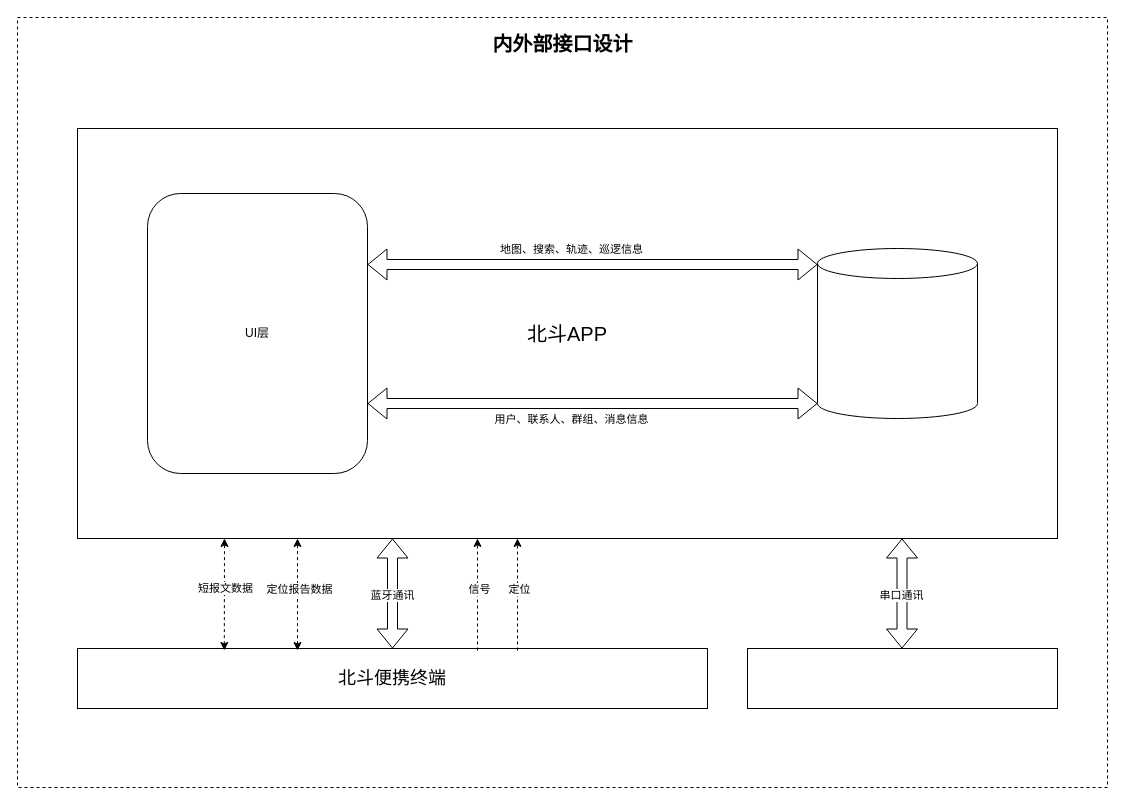
Image size: 1125x805. Some labels were removed from this diagram. Each missing label, with the centre of its shape:
安全套件: (x=902, y=678)
数据库: (x=897, y=333)
